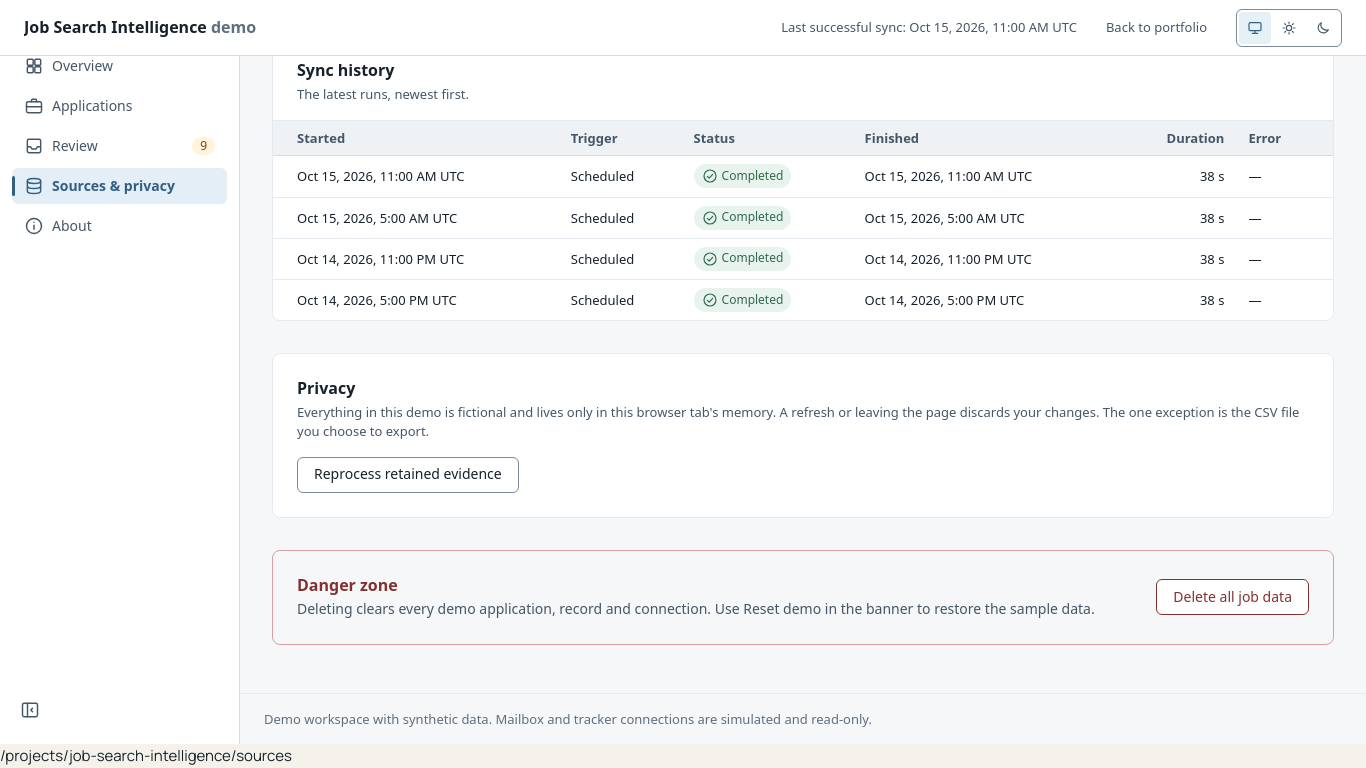
Test: overview › shows an empty state with a route to Sources after all data is deleted
(page scrolled)
Click the button "Delete all job data". click: (1233,597)
box: [1156,579,1309,615]
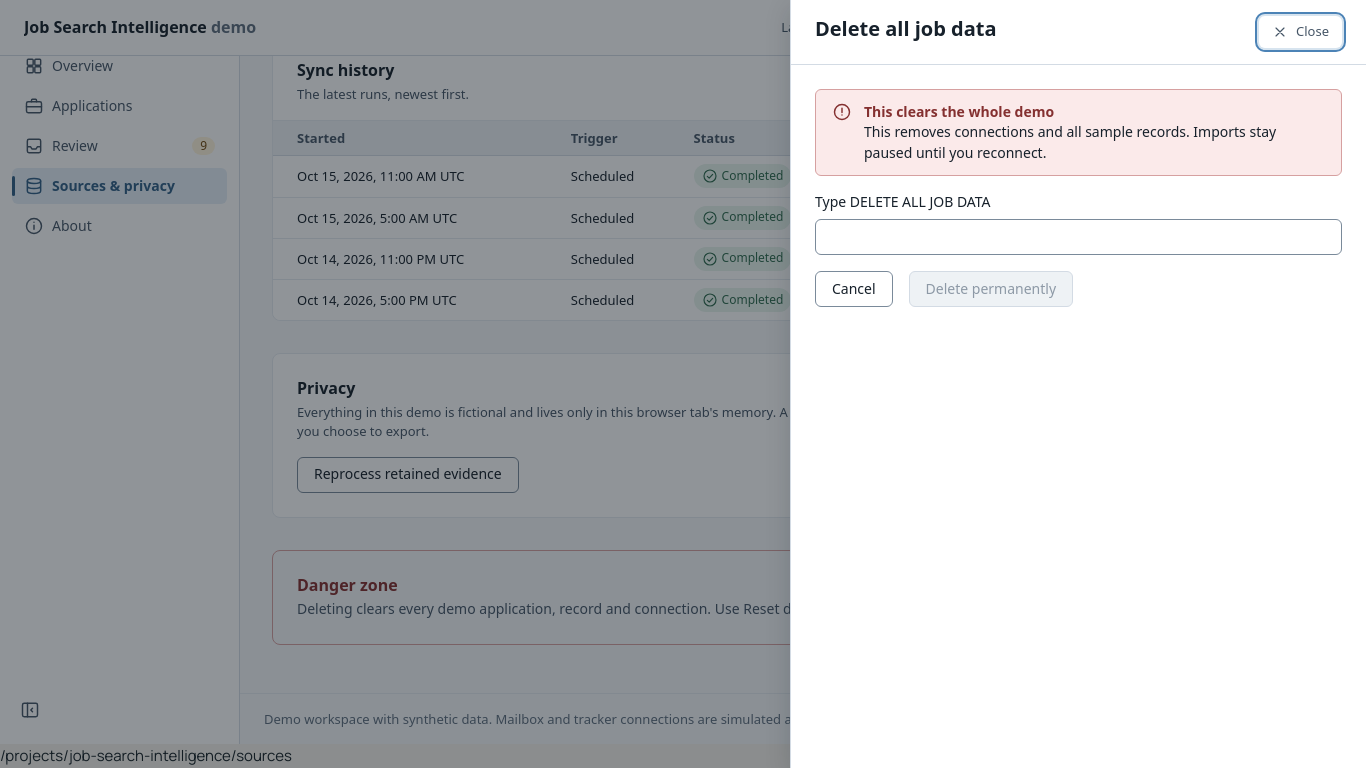
Type "DELETE ALL JOB DATA" into the field labelled "Type DELETE ALL JOB DATA". click: (1078,238)
box: [815,220,1342,256]
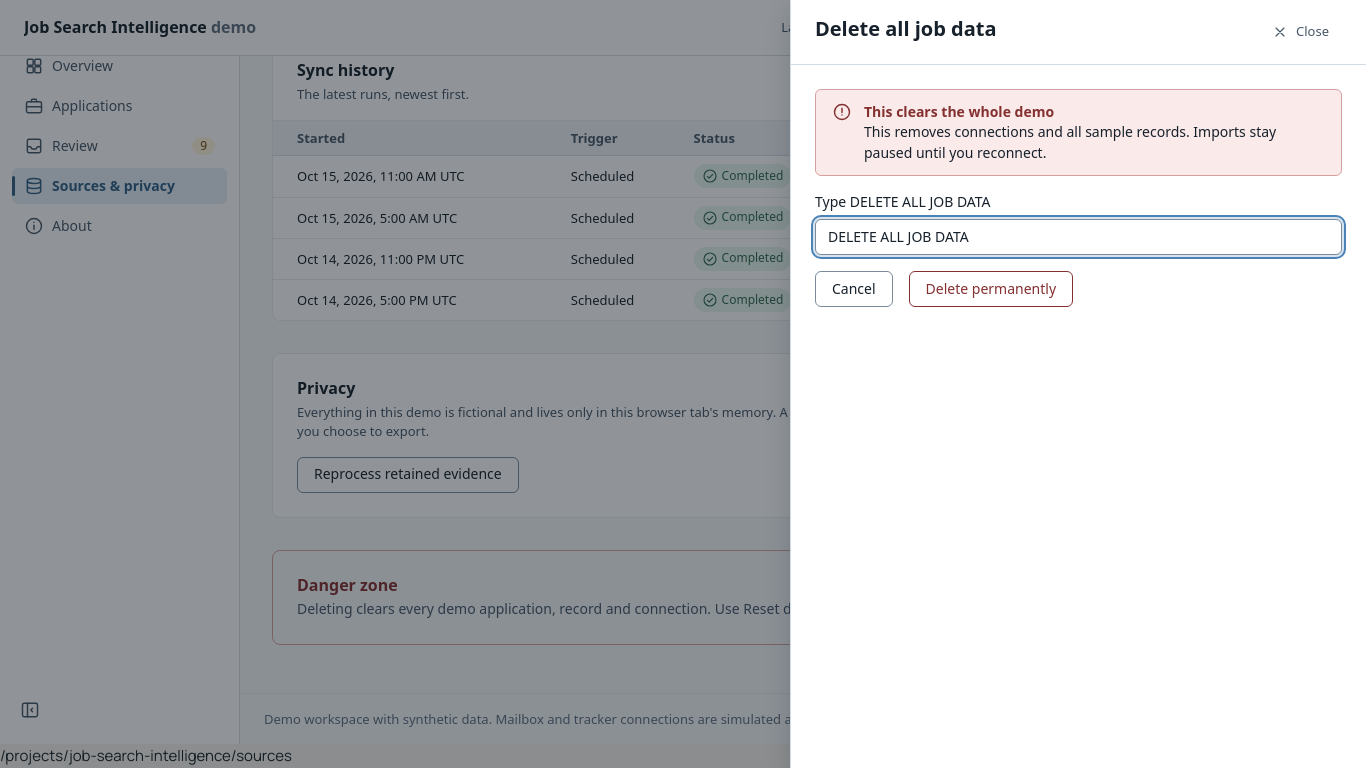
Click the button "Delete permanently". click: (991,290)
box: [909,272,1073,308]
(page scrolled)
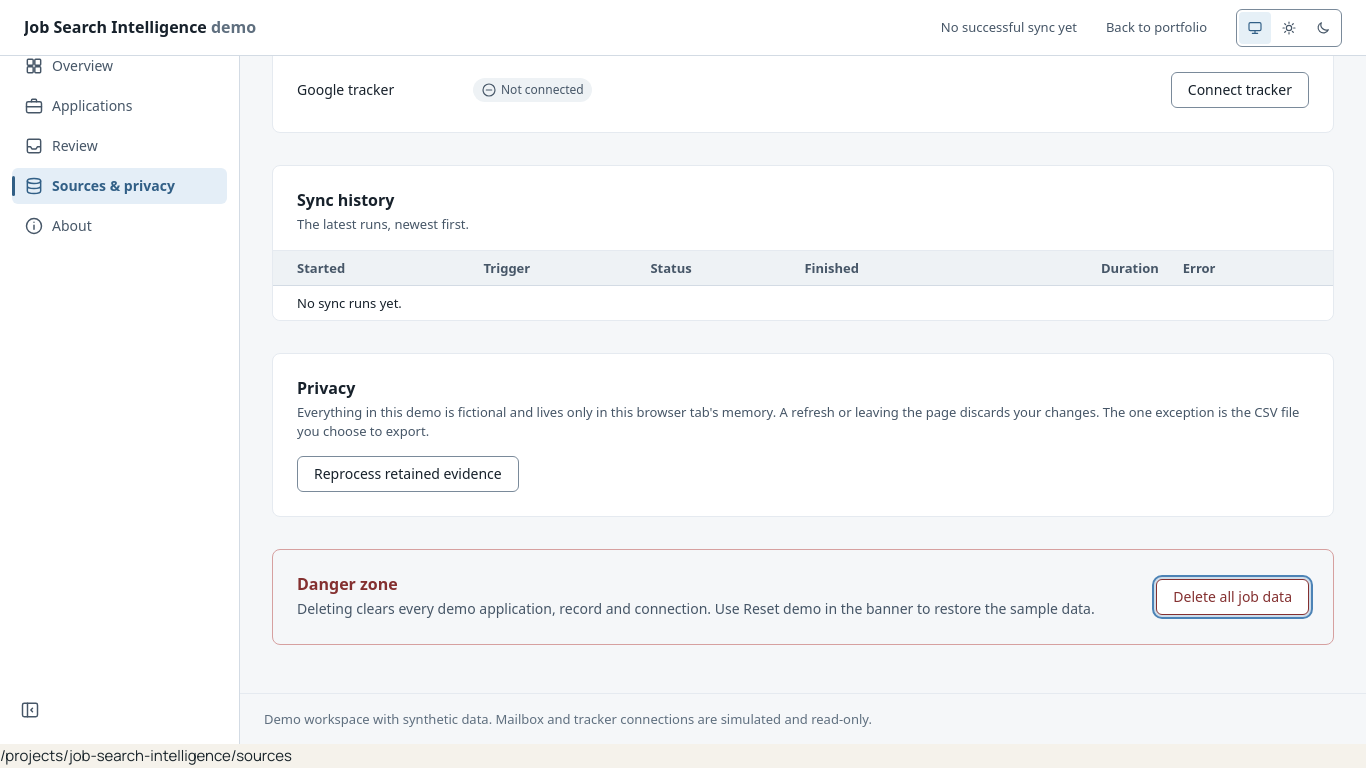
Click the link "Overview". click: (69,66)
box: [24,56,113,76]
(page scrolled)
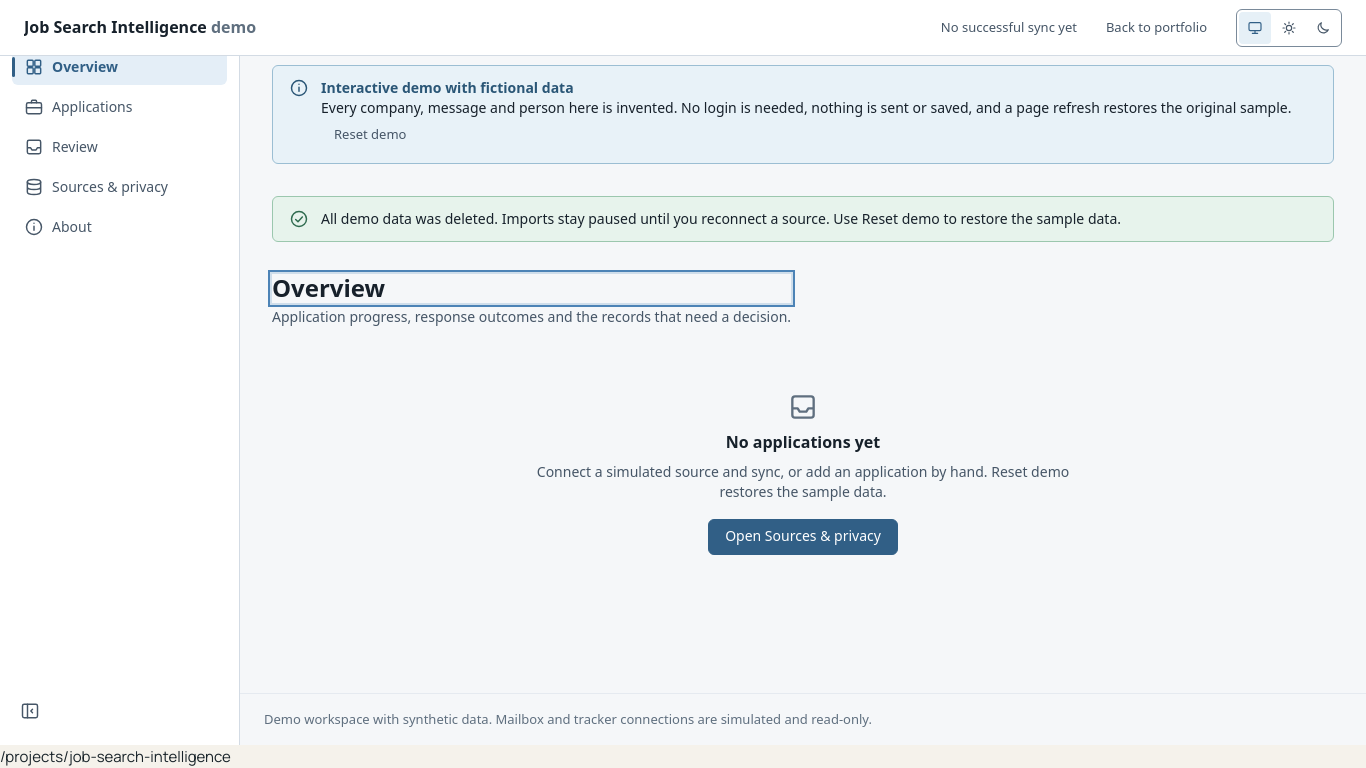
Expected: the text "No applications yet" is shown, [726,431,880,454]
